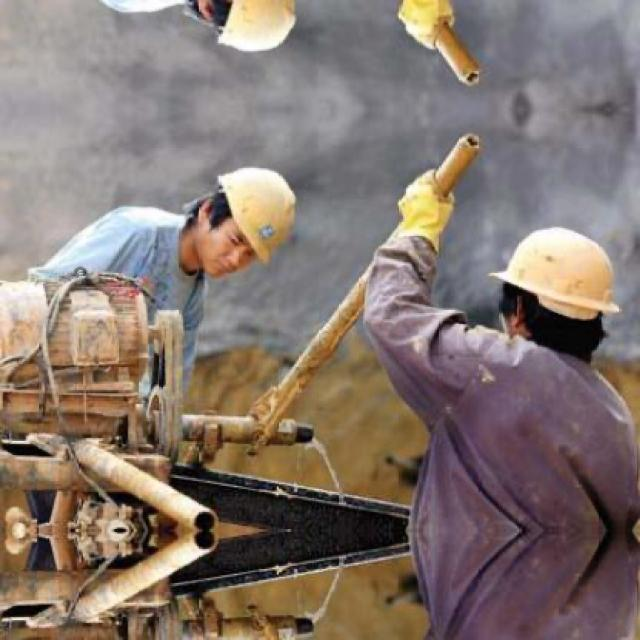helmet: (494, 210, 621, 362), (187, 156, 316, 291), (184, 0, 316, 65)
